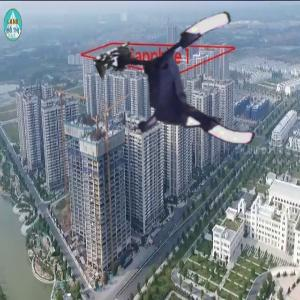drone: (116, 22, 262, 168)
